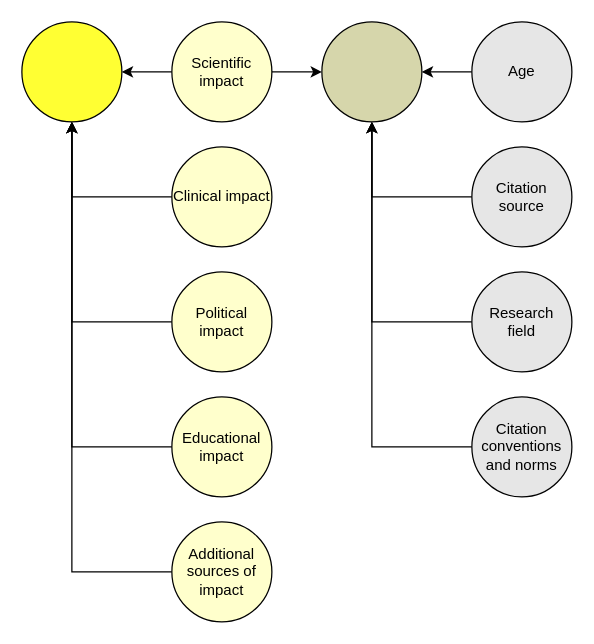
Image size: 594x644. Some labels were removed from this diagram. Here are the shapes that lost their labels. From the top down, the box of each, then its label:
(21, 21, 122, 122): Value
(321, 21, 422, 122): Citation count
